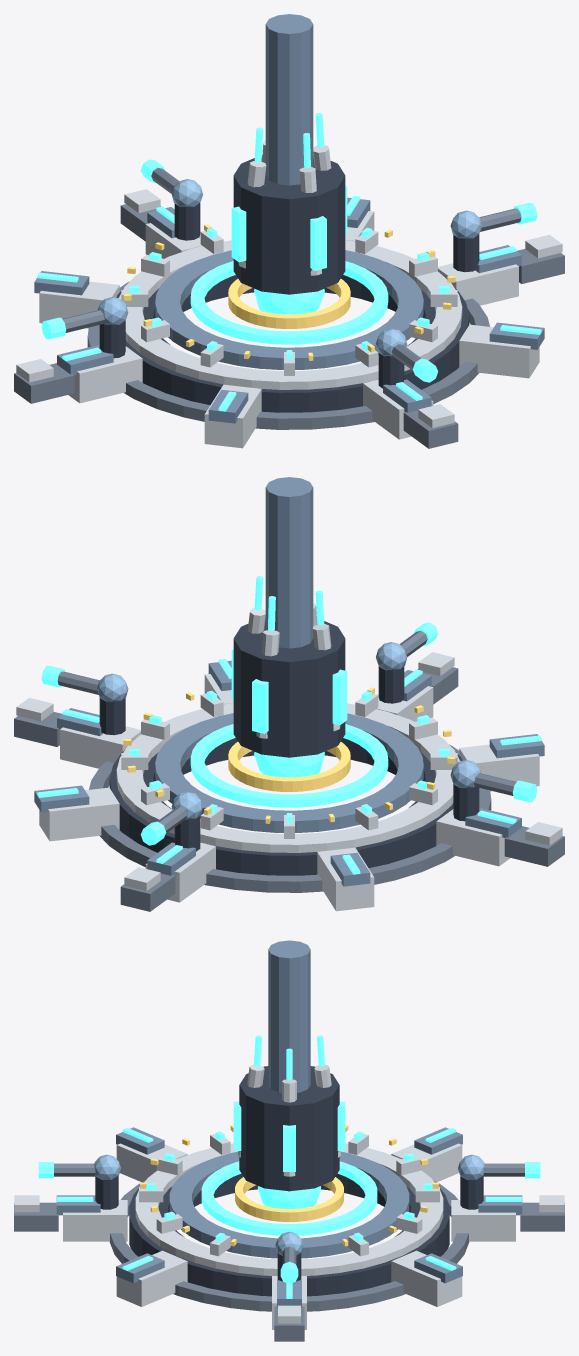
File: relay_1_earth.glb
3 views of the same model, one above another, from view 1: azimuth 30°, elevation 25°; view 2: azimuth 150°, elevation 25°; view 3: azimuth 270°, elevation 25° (orthographic). The views are drawn at different scales.
Visible parts, largest first — view 1: RLY_1, RLY_2, RLY_0, RLY_3, RLY_4, RLY_5, RLY_6; view 2: RLY_1, RLY_2, RLY_0, RLY_3, RLY_4, RLY_5, RLY_6; view 3: RLY_1, RLY_0, RLY_2, RLY_3, RLY_4, RLY_5, RLY_6.
Boxes of the visible parts, x1,y1,x2,y2 form: RLY_1: (16,140,562,448); RLY_2: (34,14,544,423); RLY_0: (99,155,479,412); RLY_3: (37,113,541,411); RLY_4: (14,168,564,448); RLY_5: (123,224,455,360); RLY_6: (98,179,481,356); RLY_1: (16,603,562,911); RLY_2: (34,477,544,886); RLY_0: (99,619,479,875); RLY_3: (37,576,541,874); RLY_4: (14,631,564,911); RLY_5: (123,687,455,823); RLY_6: (97,642,480,819); RLY_1: (14,1064,564,1329); RLY_0: (95,1066,483,1296); RLY_2: (56,940,522,1307); RLY_3: (38,1035,540,1298); RLY_4: (14,1163,564,1341); RLY_5: (140,1125,438,1246); RLY_6: (94,1154,484,1255).
Bounding box in the file's own units: 9.36 × 5.43 × 9.36.
